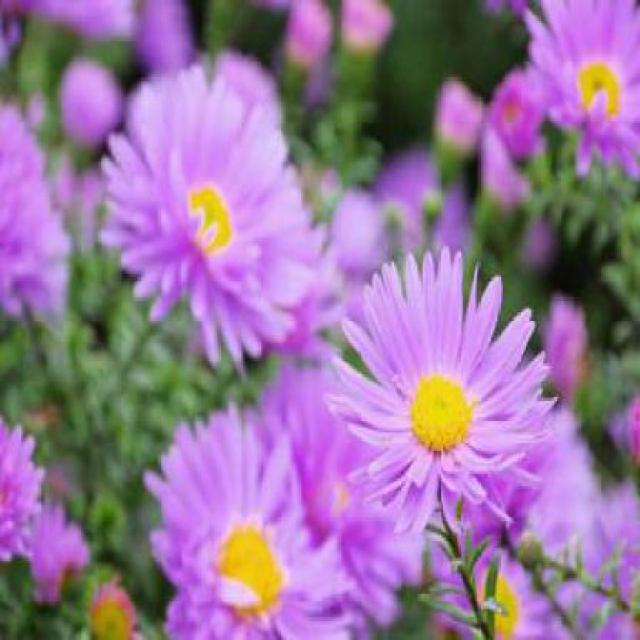Flower: (324, 245, 559, 533), (95, 64, 311, 376), (143, 399, 360, 638), (525, 3, 639, 180), (218, 525, 285, 617), (411, 372, 475, 453), (187, 181, 235, 254), (579, 64, 622, 118)
